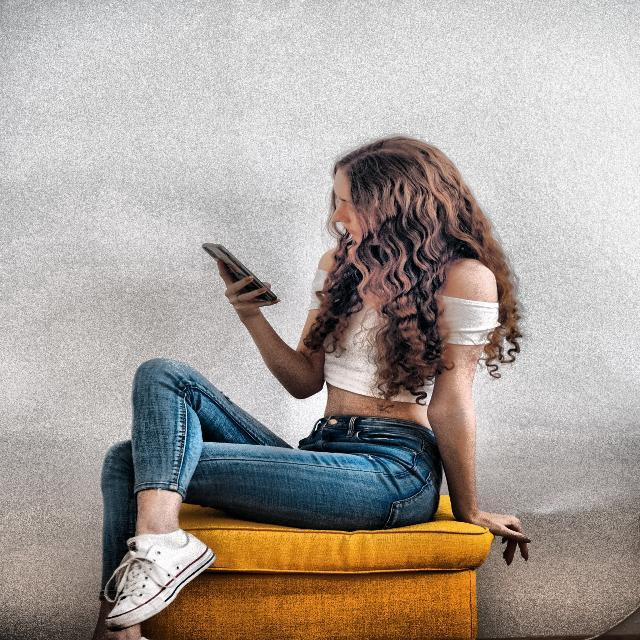Phone: (202, 243, 280, 304)
